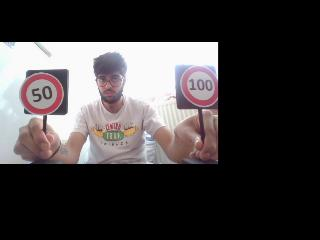Speedlimit_100: (176, 66, 220, 110)
Speedlimit_50: (19, 74, 65, 116)
